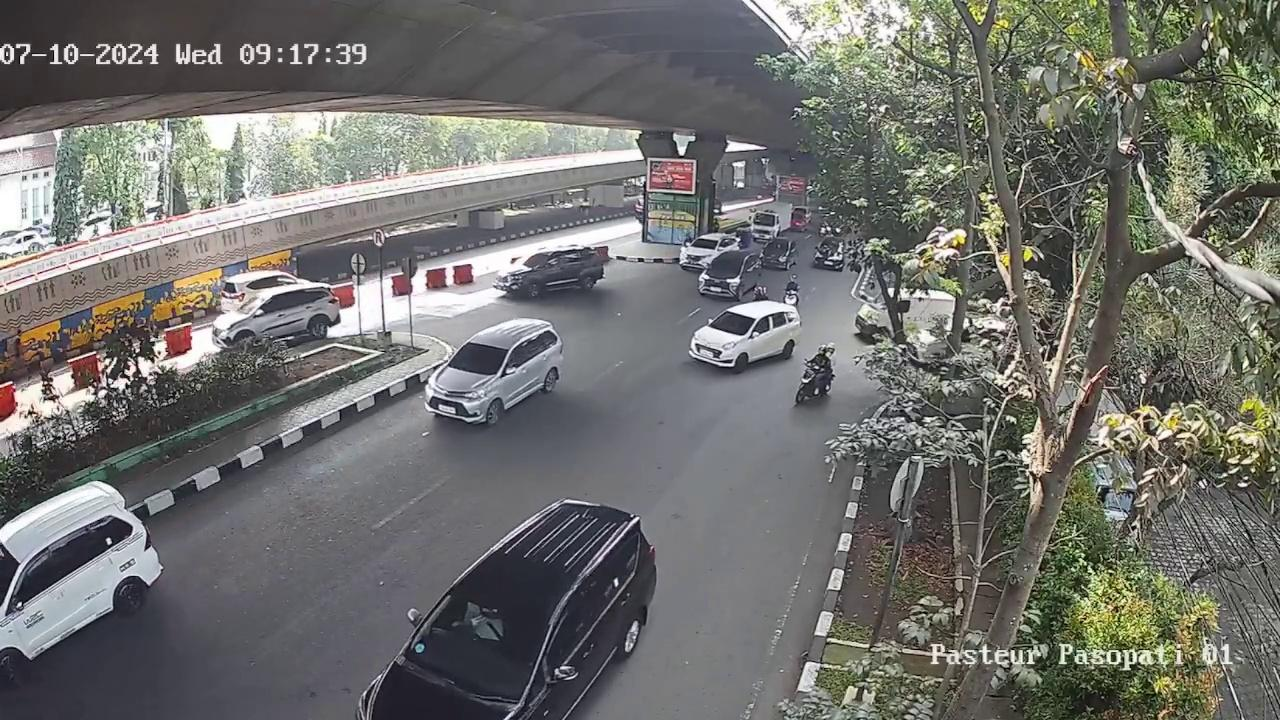pakai: (457, 600, 508, 645)
windshield: (420, 587, 553, 695), (445, 340, 512, 377), (706, 307, 755, 341)
